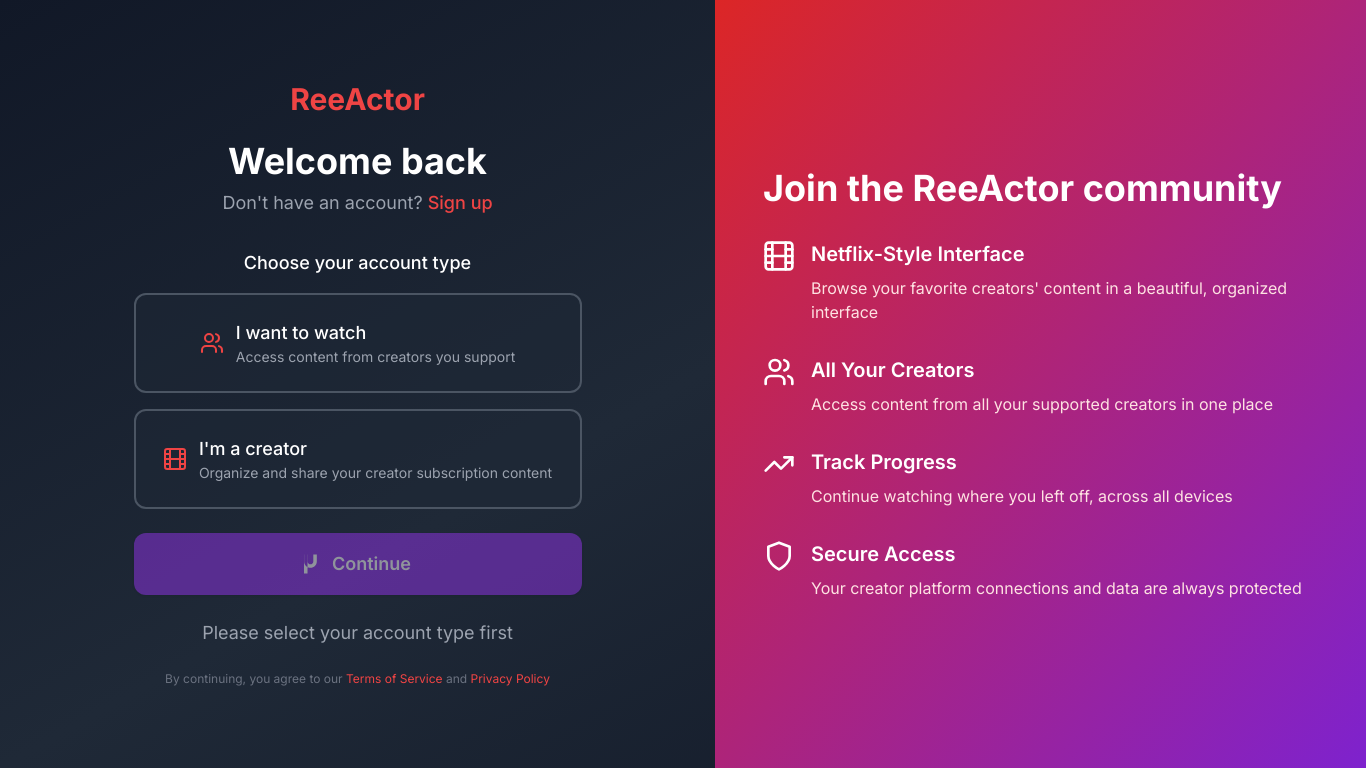
Test: Creator Platform OAuth Login › should enable login button when patron type is selected
The image size is (1366, 768).
Click the heading "I want to watch": {"x": 301, "y": 332} [236,322,366,343]
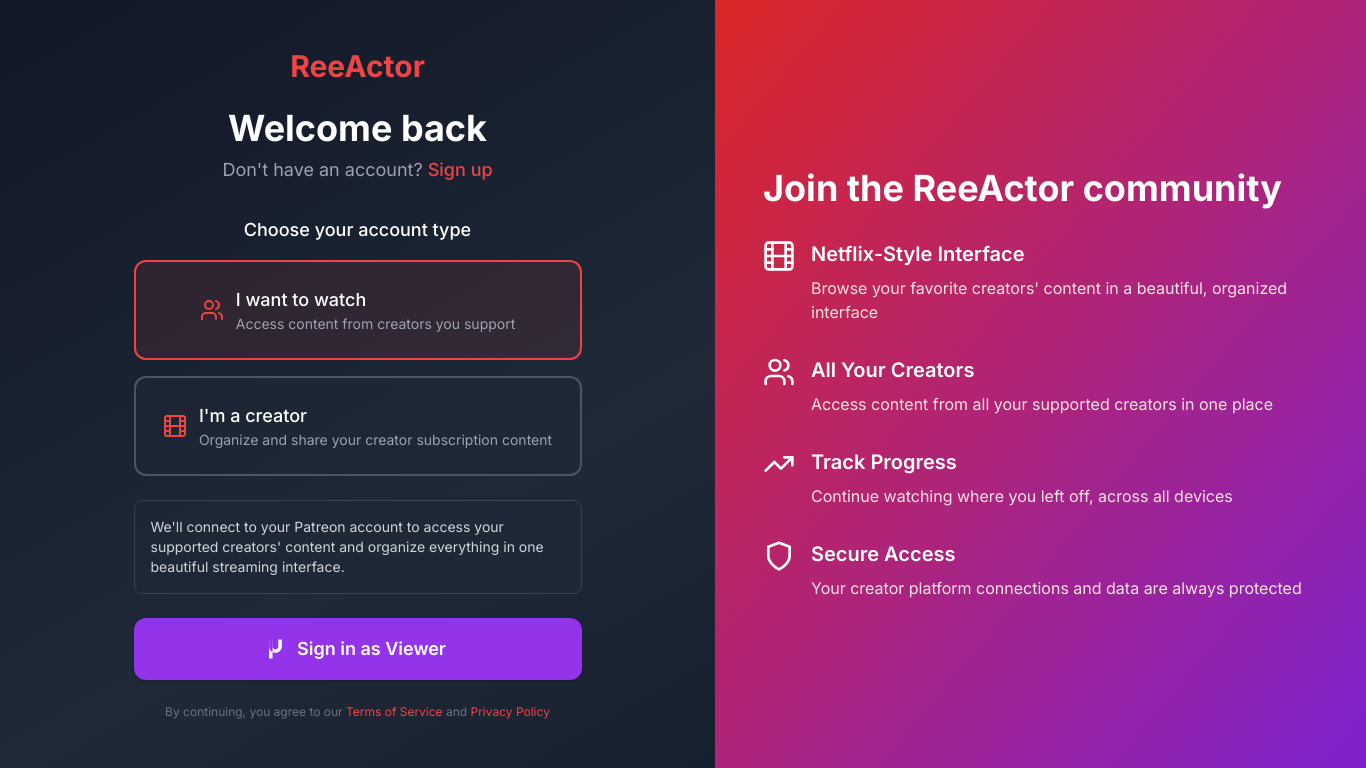
Expected: the button "Sign in as Viewer" is enabled, [134,618,582,680]
